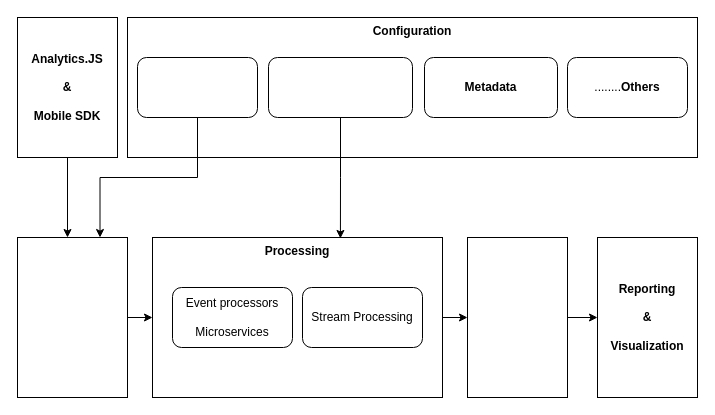
Image size: 715x415. Some labels were removed from this diagram. Each missing label, with the centre of its shape:
Collection: point (72, 317)
Event Flow Designer Orchestrate steps flow to process the events: point (340, 87)
Indexing: point (517, 317)
Tag Manager Events Config: point (197, 87)
